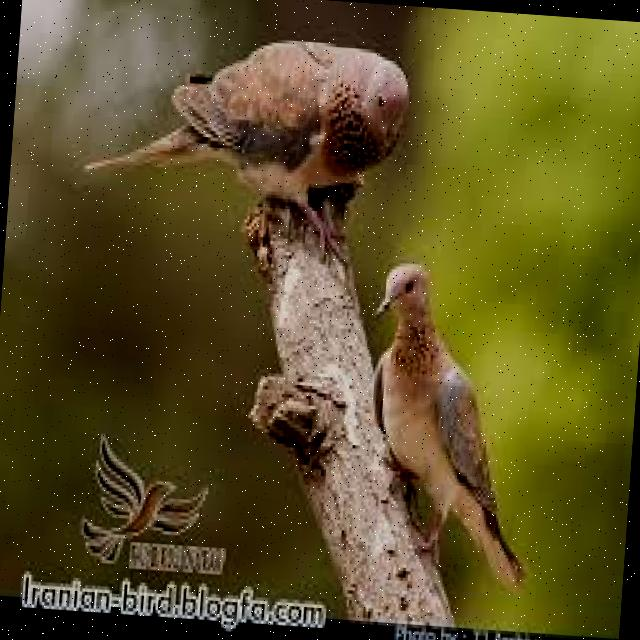dove: (76, 19, 415, 268), (354, 250, 556, 590)
